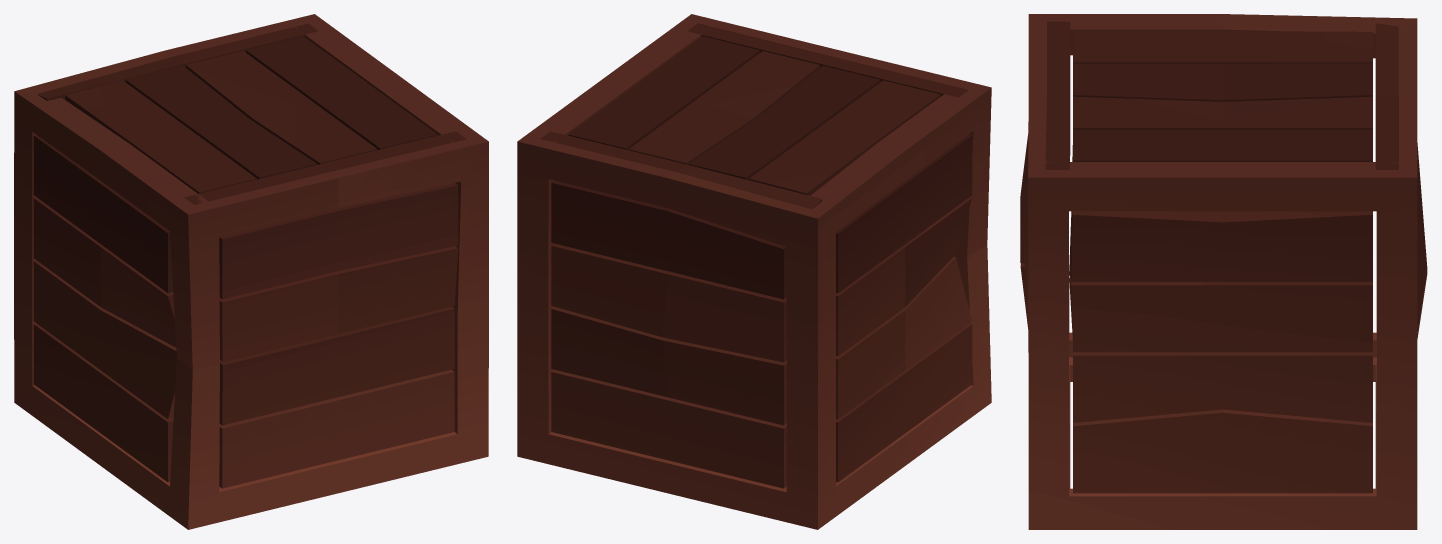
The model's file is m_bg_crate_01.fbx.
3 renders of one model, left to right at view 1: azimuth 30°, elevation 25°; view 2: azimuth 150°, elevation 25°; view 3: azimuth 270°, elevation 25°, orthographic. The views are drawn at different scales.
Parts seen in each view (by area): view 1: m_bg_crate_01.001; view 2: m_bg_crate_01.001; view 3: m_bg_crate_01.001.
Boxes of the visible parts, x1,y1,x2,y2 form: m_bg_crate_01.001: (14,14,488,529); m_bg_crate_01.001: (517,14,991,529); m_bg_crate_01.001: (1020,14,1427,529).
Bounding box in the file's own units: 210 × 210 × 220.
